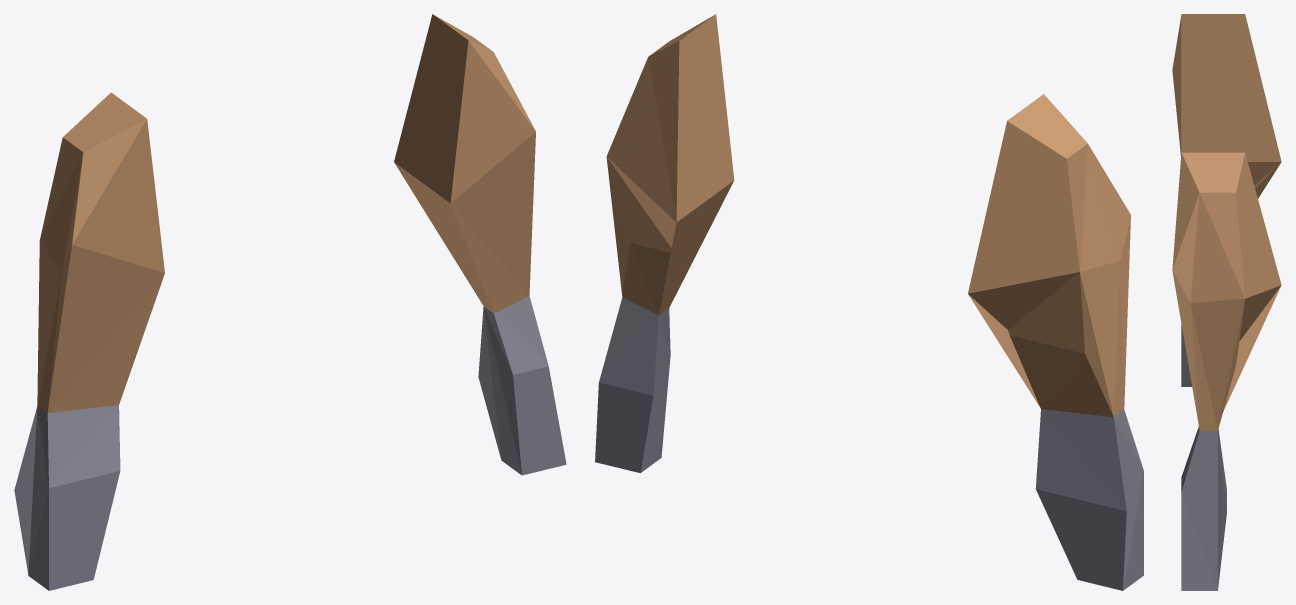
File: npc_world_kardia_2.obj
The picture shows the model from 3 angles, left to right: view 1: azimuth 30°, elevation 25°; view 2: azimuth 150°, elevation 25°; view 3: azimuth 270°, elevation 25°; orthographic projection. The views are drawn at different scales.
Bounding box in the file's own units: 0.4609 × 0.375 × 0.0938.
